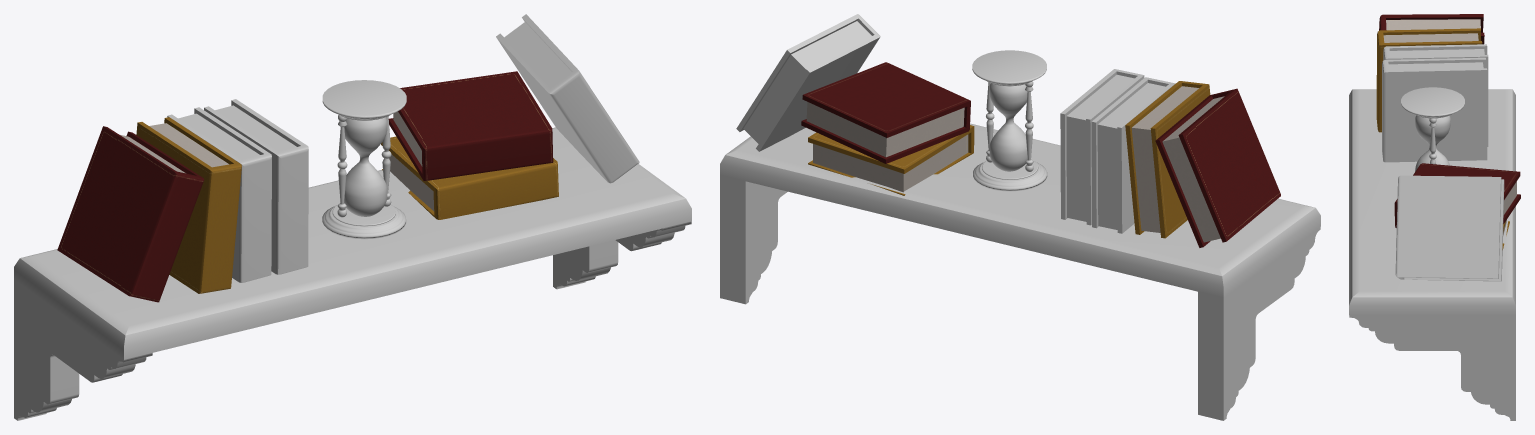
3 views of the same model, side by side, from view 1: azimuth 30°, elevation 25°; view 2: azimuth 150°, elevation 25°; view 3: azimuth 270°, elevation 25° (orthographic). The views are drawn at different scales.
Visible parts, largest first — view 1: Plank, book1, book6, Hourglass2, support_2, book2, book7, book4, book5, book3, support_3; view 2: Plank, book1, book6, support_2, book7, Hourglass2, book2, support_3, book3, book4, book5; view 3: Plank, book7, book4, support_3, Hourglass2, book2, book1, book3, book6.
Part boxes in pixels (x1=…): Plank: x1=14, y1=127, x2=691, y2=359; book1: x1=57, y1=126, x2=203, y2=302; book6: x1=388, y1=71, x2=553, y2=180; Hourglass2: x1=322, y1=80, x2=406, y2=239; support_2: x1=14, y1=279, x2=152, y2=420; book2: x1=136, y1=117, x2=241, y2=293; book7: x1=496, y1=14, x2=639, y2=183; book4: x1=204, y1=99, x2=308, y2=274; book5: x1=381, y1=136, x2=558, y2=219; book3: x1=167, y1=107, x2=271, y2=282; support_3: x1=553, y1=221, x2=691, y2=289; Plank: x1=720, y1=123, x2=1320, y2=297; book1: x1=1155, y1=88, x2=1280, y2=247; book6: x1=801, y1=62, x2=970, y2=163; support_2: x1=1198, y1=227, x2=1320, y2=420; book7: x1=736, y1=14, x2=880, y2=151; Hourglass2: x1=972, y1=50, x2=1047, y2=191; book2: x1=1125, y1=81, x2=1210, y2=238; support_3: x1=720, y1=174, x2=787, y2=304; book3: x1=1091, y1=77, x2=1175, y2=233; book4: x1=1060, y1=69, x2=1144, y2=225; book5: x1=808, y1=125, x2=974, y2=195; Plank: x1=1349, y1=89, x2=1515, y2=315; book7: x1=1395, y1=175, x2=1504, y2=281; book4: x1=1382, y1=57, x2=1487, y2=162; support_3: x1=1349, y1=315, x2=1515, y2=420; Hourglass2: x1=1401, y1=87, x2=1464, y2=171; book2: x1=1376, y1=28, x2=1482, y2=132; book1: x1=1379, y1=14, x2=1484, y2=44; book3: x1=1383, y1=44, x2=1488, y2=146; book6: x1=1394, y1=163, x2=1520, y2=227.
Size of the model in its own units: 1.5 by 0.7392 by 0.517.
